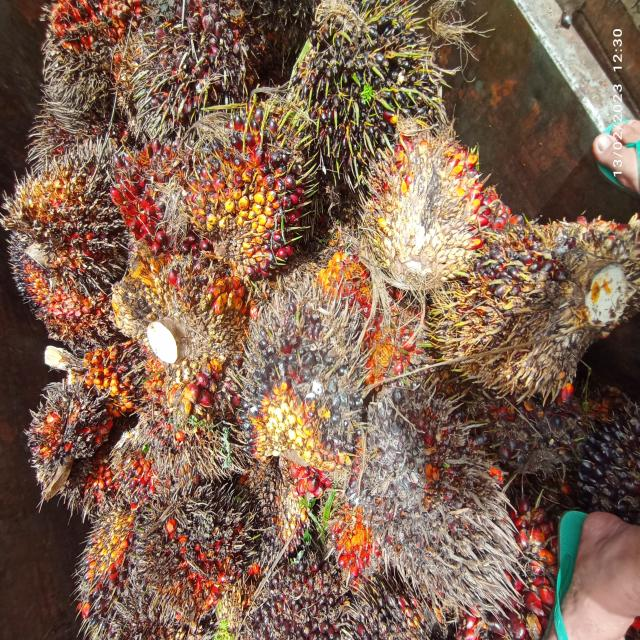fraksi 00: (443, 174, 629, 416), (222, 280, 368, 499), (288, 0, 445, 184)
fraksi 1: (345, 375, 508, 608), (168, 88, 313, 305), (132, 0, 256, 154)
fraksi 3: (362, 111, 499, 324), (100, 148, 195, 259)
fraksi 4: (6, 147, 143, 299), (134, 478, 278, 621), (12, 371, 128, 505), (44, 0, 132, 131), (77, 341, 157, 426)
